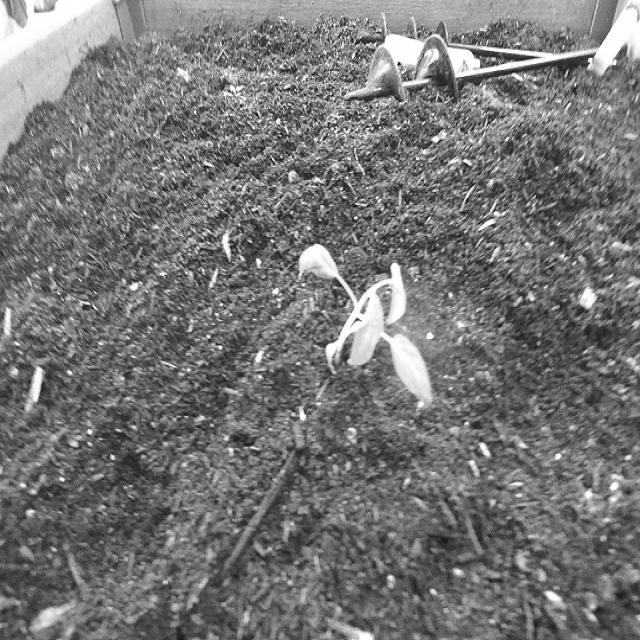Healthy: (294, 237, 436, 415)
